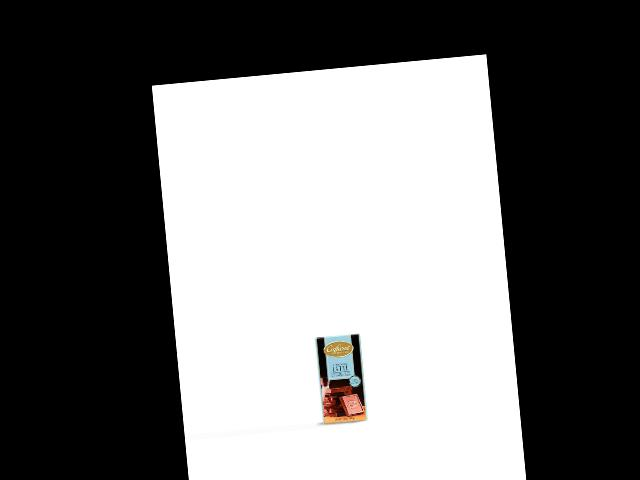chocolate: (313, 332, 369, 425)
